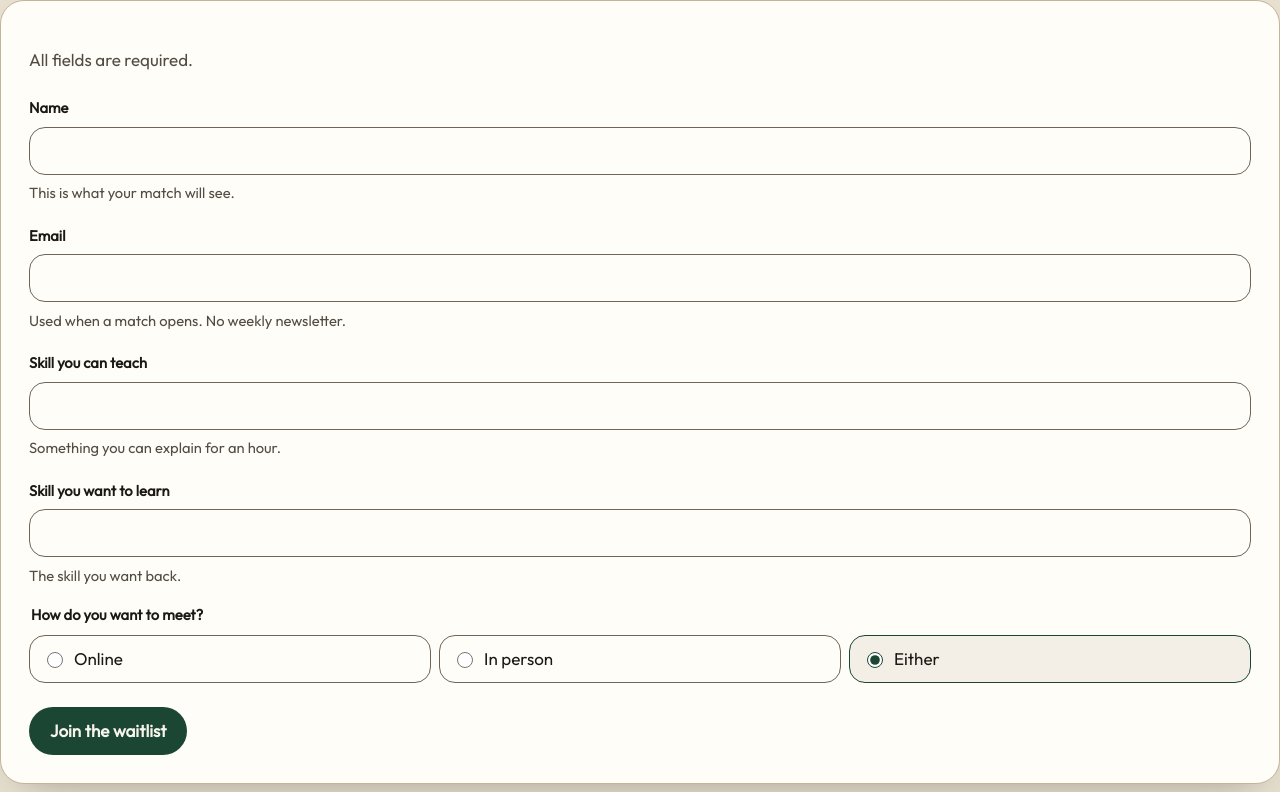
Scenario: waitlist form validation › shows a summary and field errors when the form is empty
The width and height of the screenshot is (1280, 792).
Click the button "Join the waitlist".
click(108, 731)  # box [29, 707, 188, 755]
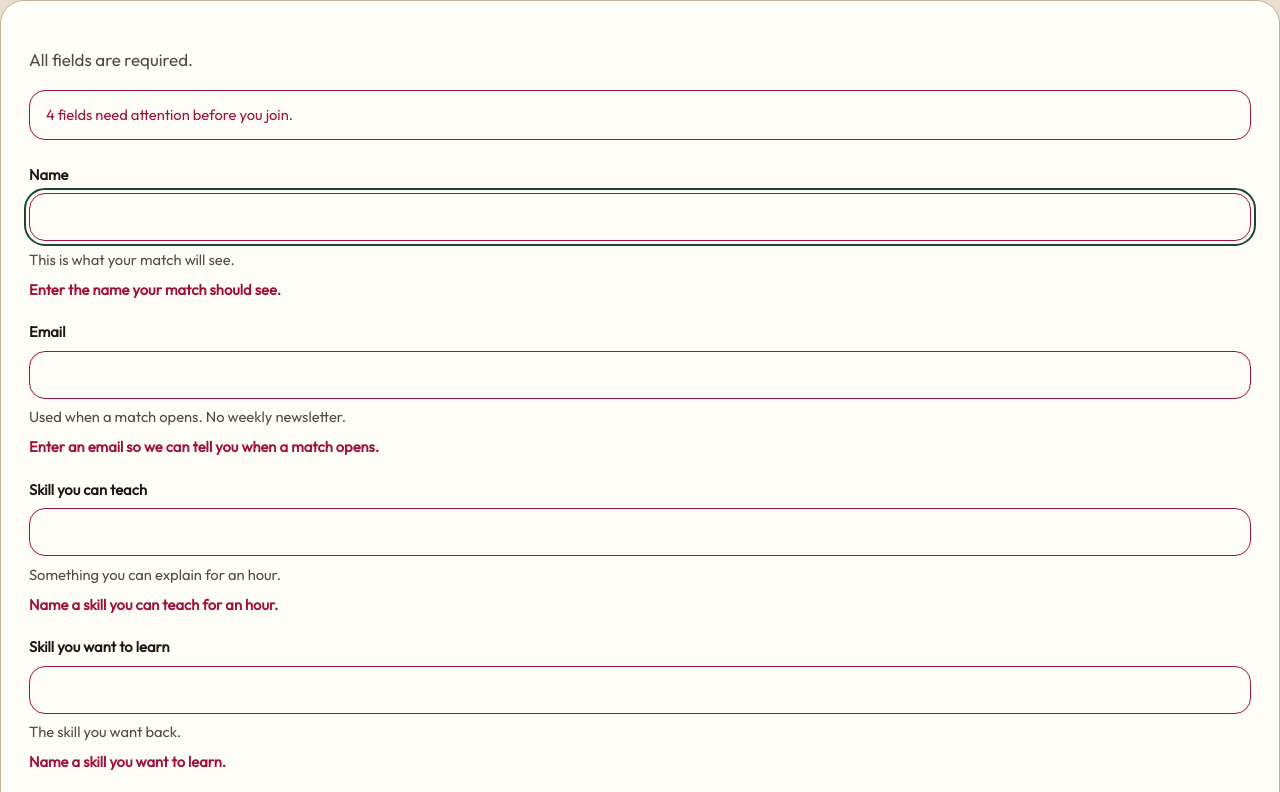
Check: the message reads "4 fields need attention before you join.", box [46, 105, 293, 124]
Check: the text "Enter the name your match should see." is shown, box [29, 280, 281, 299]
Check: the text "Enter an email so we can tell you when a match opens." is shown, box [29, 437, 379, 456]
